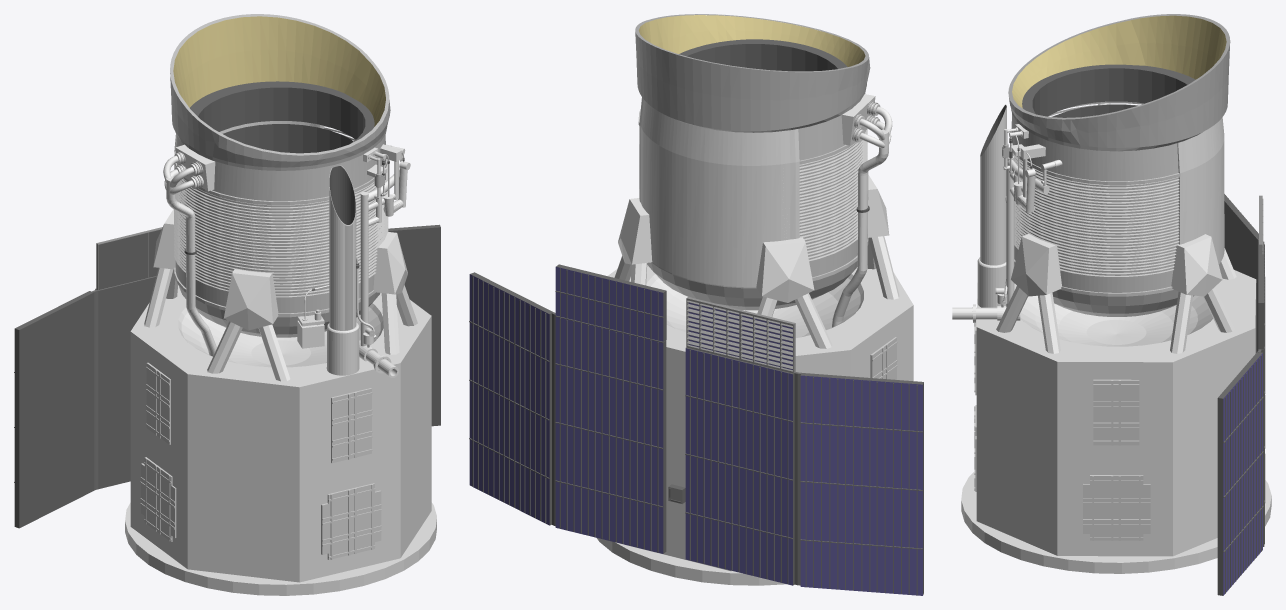
The model's file is Wide-Field Infrared Explorer (WIRE).glb.
3 views of the same model, side by side, from view 1: azimuth 30°, elevation 25°; view 2: azimuth 150°, elevation 25°; view 3: azimuth 270°, elevation 25° (orthographic). The views are drawn at different scales.
Parts seen in each view (by area): view 1: <LWODefault>; view 2: <LWODefault>; view 3: <LWODefault>.
Boxes of the visible parts, left/top/right/bottom form: <LWODefault>: left=14, top=14, right=440, bottom=595; <LWODefault>: left=469, top=14, right=923, bottom=595; <LWODefault>: left=952, top=14, right=1271, bottom=595.
Bounding box in the file's own units: 32.5 × 34.32 × 21.23.
